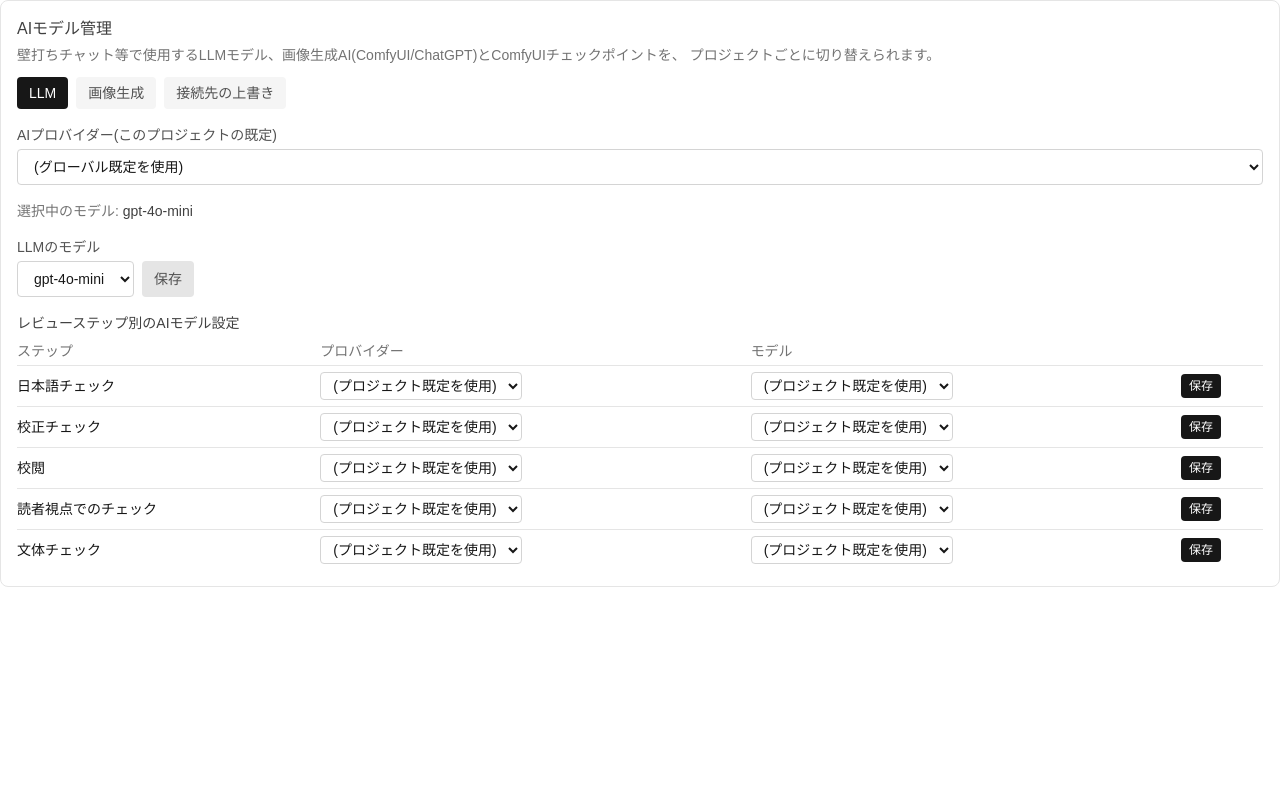
Test: ProjectAiModelsPanel のプロバイダー切り替え(issue #1644) › プロバイダーの保存に失敗したときはモデルを再取得しない
This screenshot has width=1280, height=800.
Check: the dropdown labelled "LLMのモデル" shows "gpt-4o-mini", box 17,261 -> 134,297
Select "Claude (Anthropic)" in the dropdown labelled "AIプロバイダー(このプロジェクトの既定)" at (640, 167), box 17,149 -> 1263,185
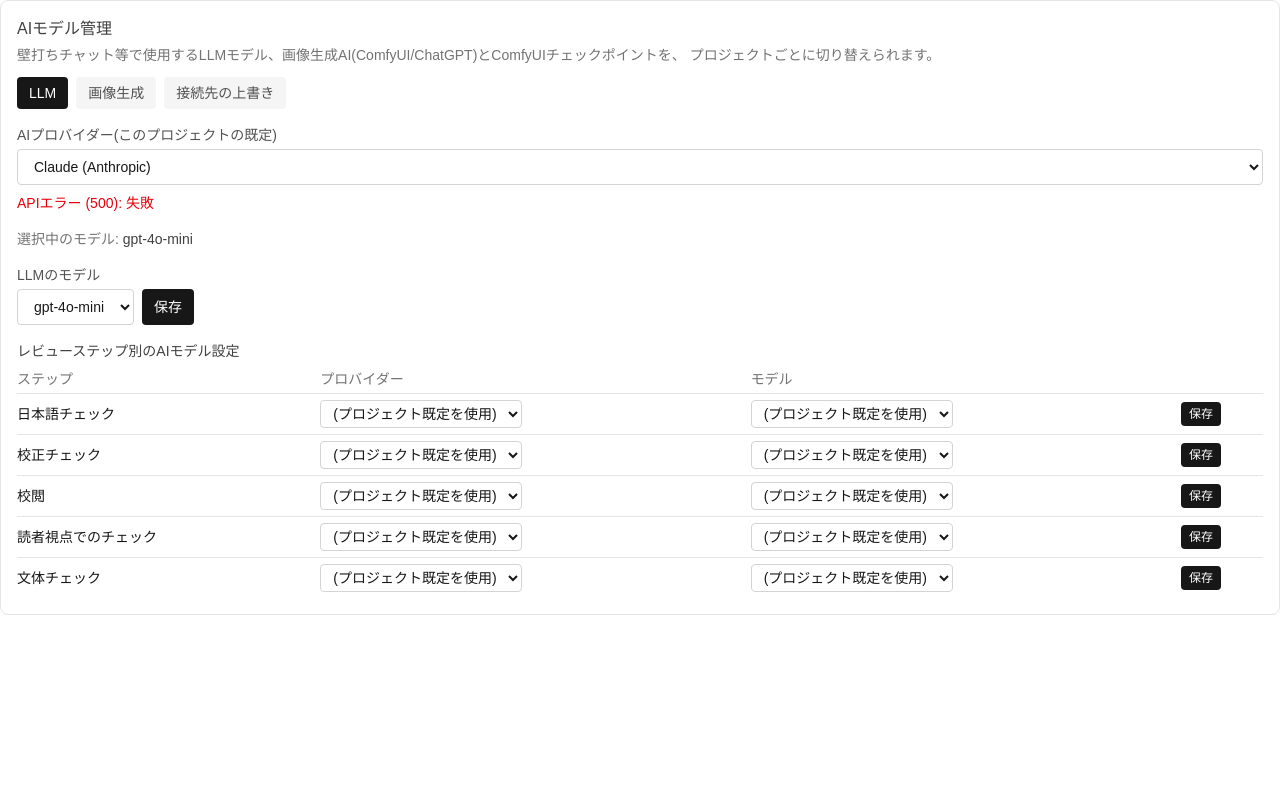
Check: the text "APIエラー (500): 失敗" is shown, box 17,195 -> 154,211
